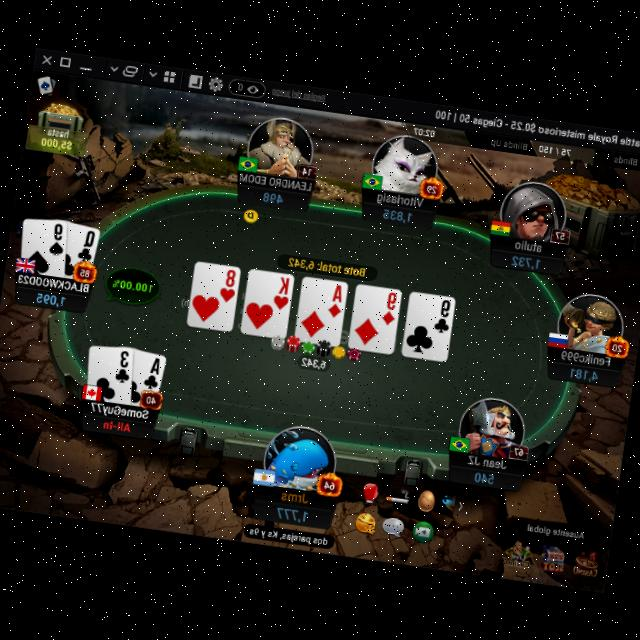3c: (113, 346, 135, 384)
5c: (113, 346, 135, 384)
8h: (218, 266, 240, 302)
9c: (432, 294, 454, 334)
9d: (380, 287, 400, 326)
9s: (47, 218, 69, 255)
Ac: (140, 352, 164, 390)
Ad: (326, 280, 346, 318)
Kh: (272, 273, 294, 310)
Qc: (75, 225, 98, 262)
all_in_symbol: (102, 416, 132, 431)
dealer: (242, 205, 260, 222)
pot_text: (285, 252, 367, 276)
stack_text: (276, 502, 310, 522), (382, 204, 414, 222), (35, 286, 67, 304), (510, 250, 541, 268), (569, 362, 600, 379), (473, 466, 497, 483), (261, 185, 285, 202)
